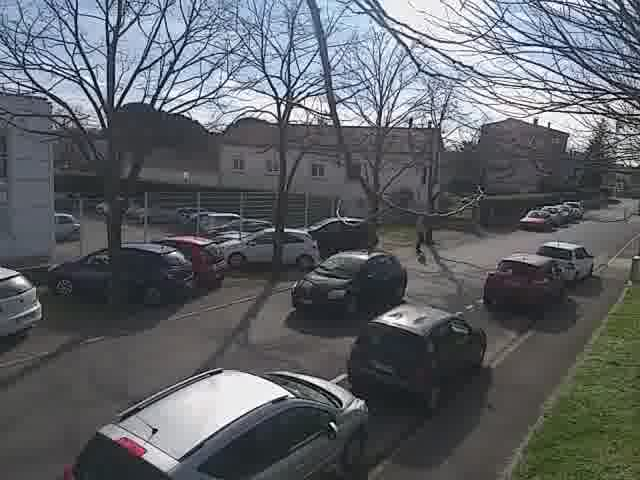persona: (409, 207, 429, 258)
